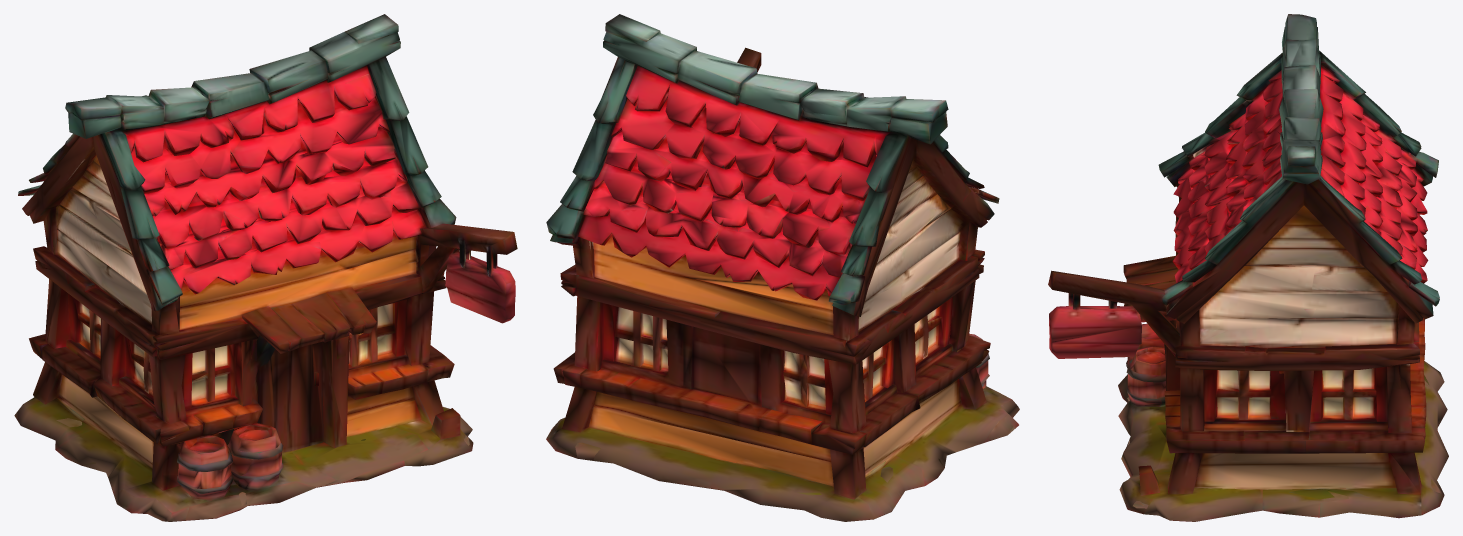
Rendered from tile_taverne.glb.
3 views of the same model, side by side, from view 1: azimuth 30°, elevation 25°; view 2: azimuth 150°, elevation 25°; view 3: azimuth 270°, elevation 25° (orthographic). The views are drawn at different scales.
Parts seen in each view (by area): view 1: node_0; view 2: node_0; view 3: node_0.
Boxes of the visible parts, x1=… form: node_0: x1=14, y1=14, x2=517, y2=521; node_0: x1=546, y1=14, x2=1019, y2=521; node_0: x1=1048, y1=14, x2=1448, y2=521.
Size of the model in its own units: 0.7368 by 0.743 by 0.7572.
1 material, 1 textured.
